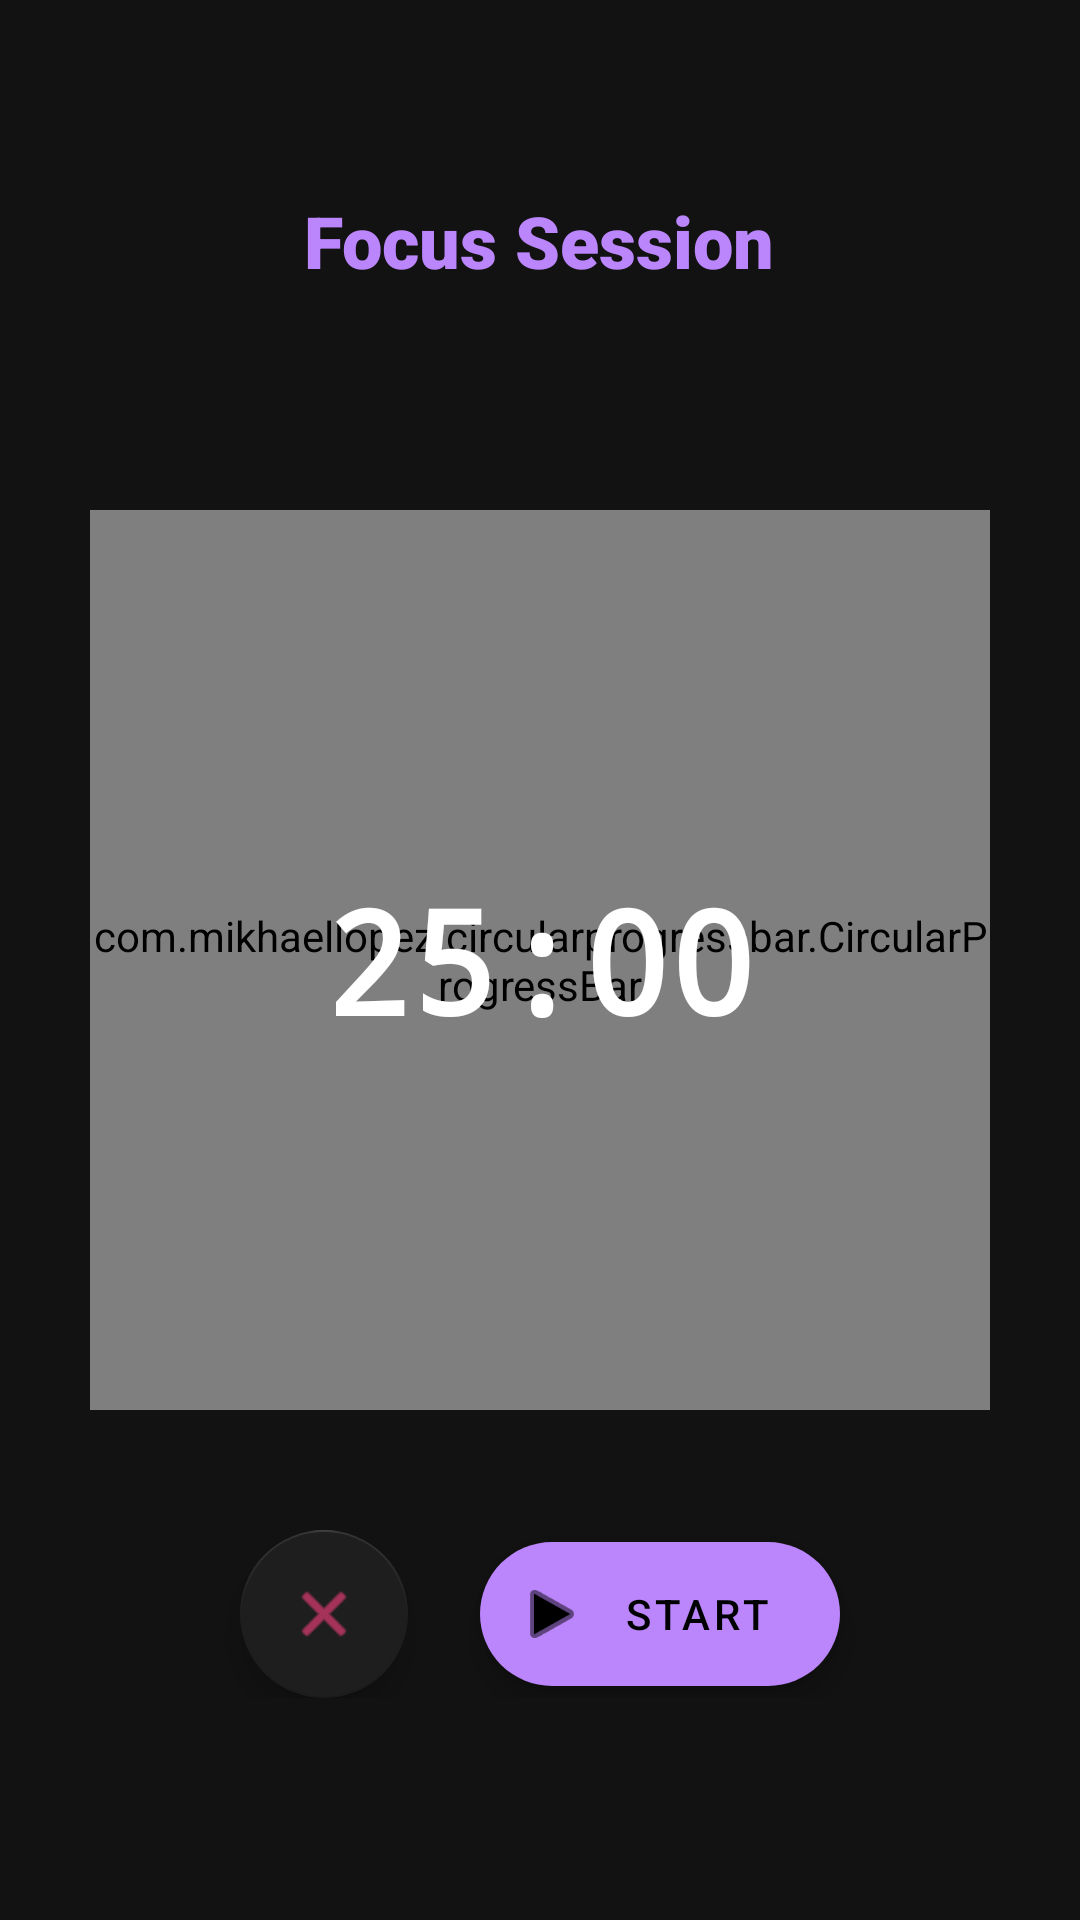

Where icons sit on this 1080×1920 app screen, as (x1, y1, x2, y2):
close clear cancel: (240, 1530, 408, 1698)
